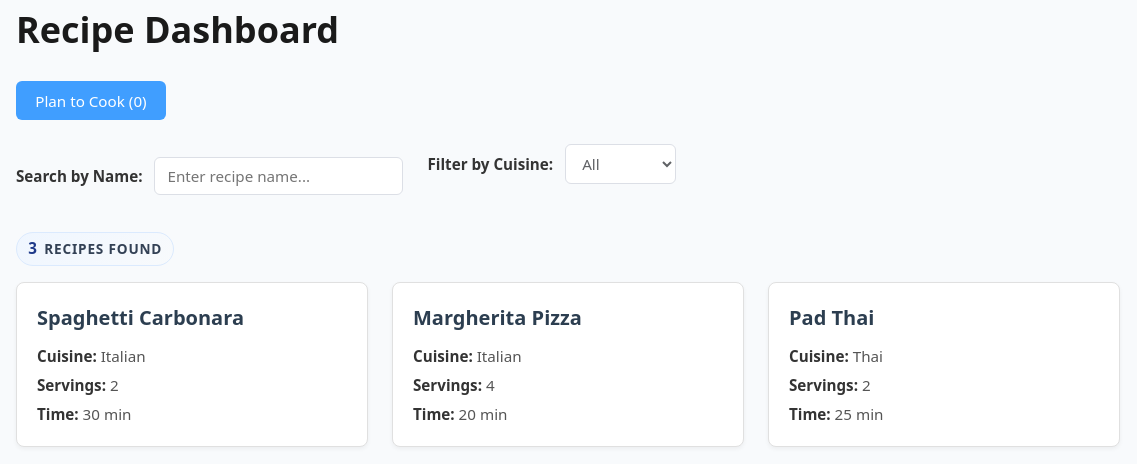
Test: RecipesPage Integration Test › renders recipes, filters by cuisine using userEvent, and updates the visible recipe count
// Change the cuisine filter to "Italian" using userEvent
Select "Italian" in the dropdown labelled "Filter by Cuisine:": (621, 164) 565,144 -> 676,184
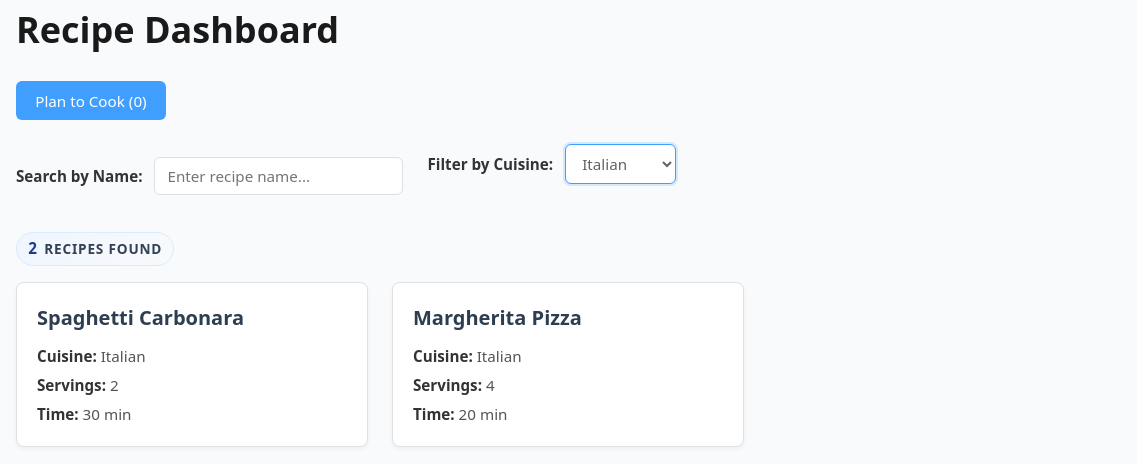
Expected: the heading "Spaghetti Carbonara" is shown, 37,304 -> 244,331
Expected: the heading "Pad Thai" is gone
